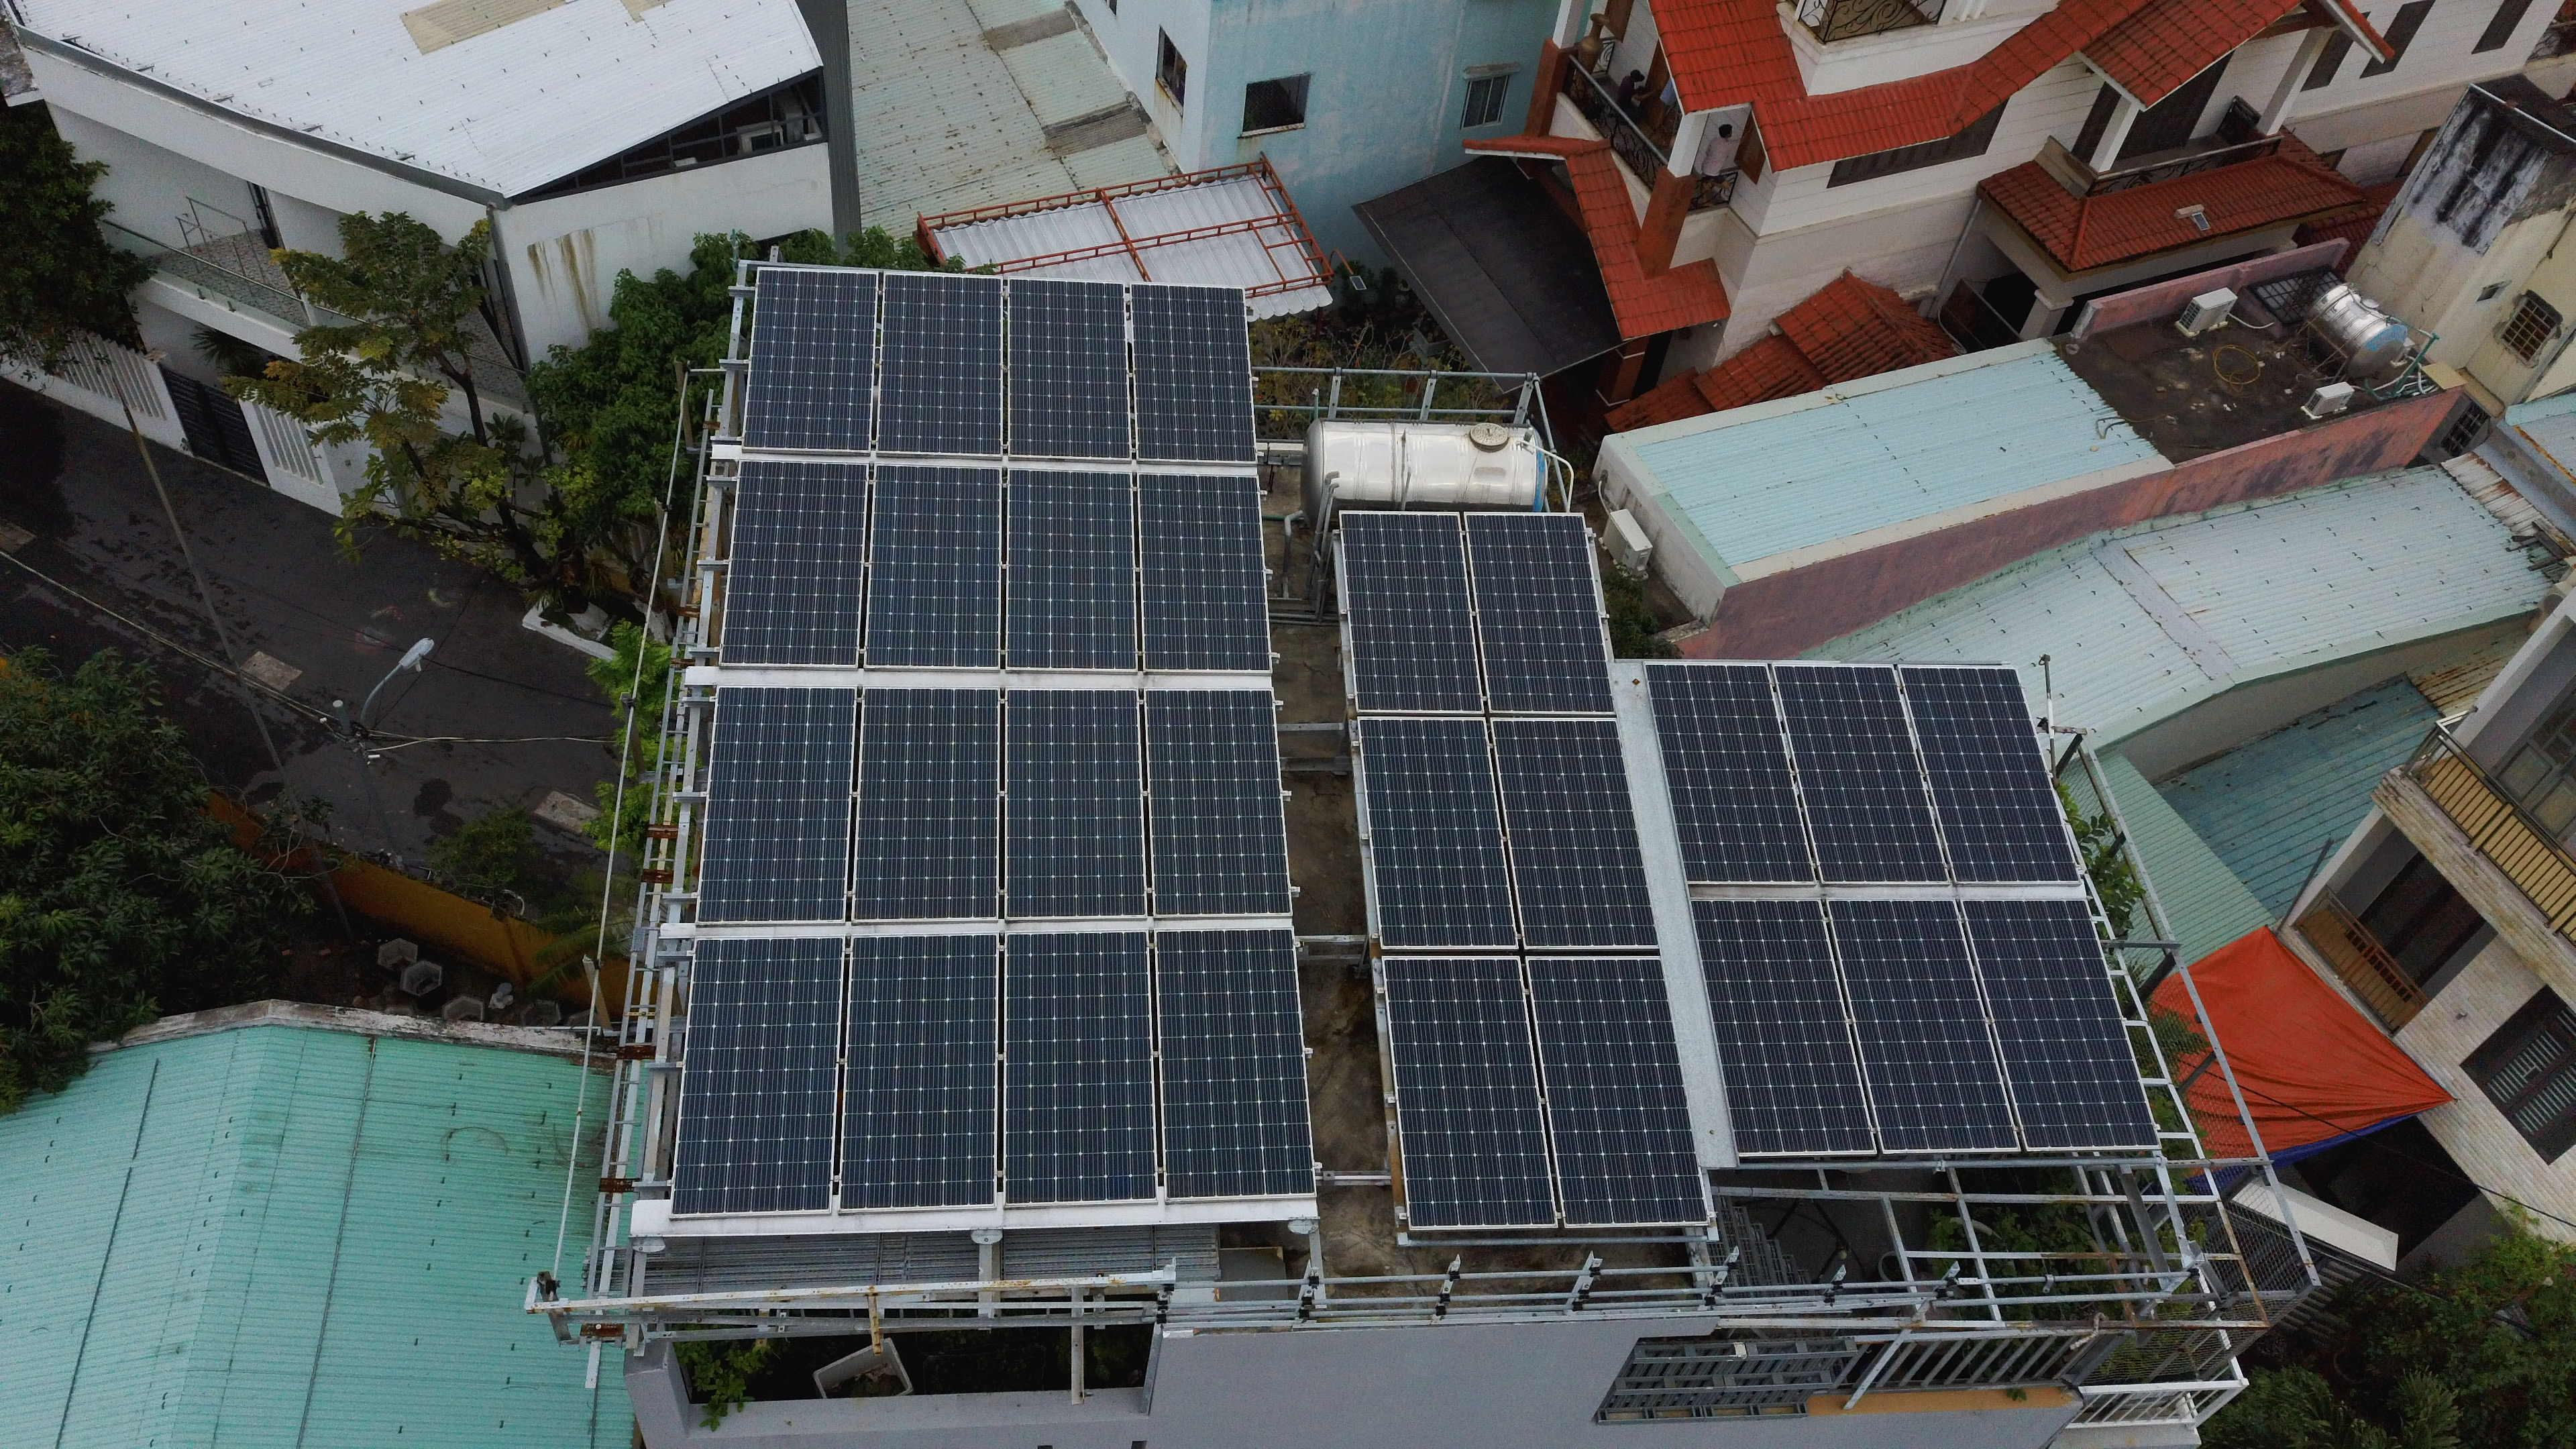solar: (1368, 950, 1568, 1235), (1817, 892, 2028, 1161), (1520, 948, 1720, 1231), (663, 929, 855, 1224), (1672, 893, 1882, 1161), (1955, 895, 2167, 1154), (826, 924, 1005, 1217), (1143, 924, 1322, 1207), (991, 922, 1166, 1210), (1888, 651, 2084, 892), (1483, 708, 1663, 962), (690, 678, 865, 932), (1766, 653, 1955, 888), (1637, 656, 1822, 892), (1352, 711, 1527, 957), (1132, 681, 1297, 924), (989, 681, 1154, 924), (839, 686, 1003, 927), (711, 442, 879, 672), (1454, 502, 1621, 725), (858, 451, 1010, 679), (994, 455, 1146, 681), (1123, 460, 1277, 679), (1334, 502, 1488, 722), (736, 258, 883, 462), (1116, 271, 1261, 474), (991, 265, 1136, 469), (869, 265, 1014, 469)
